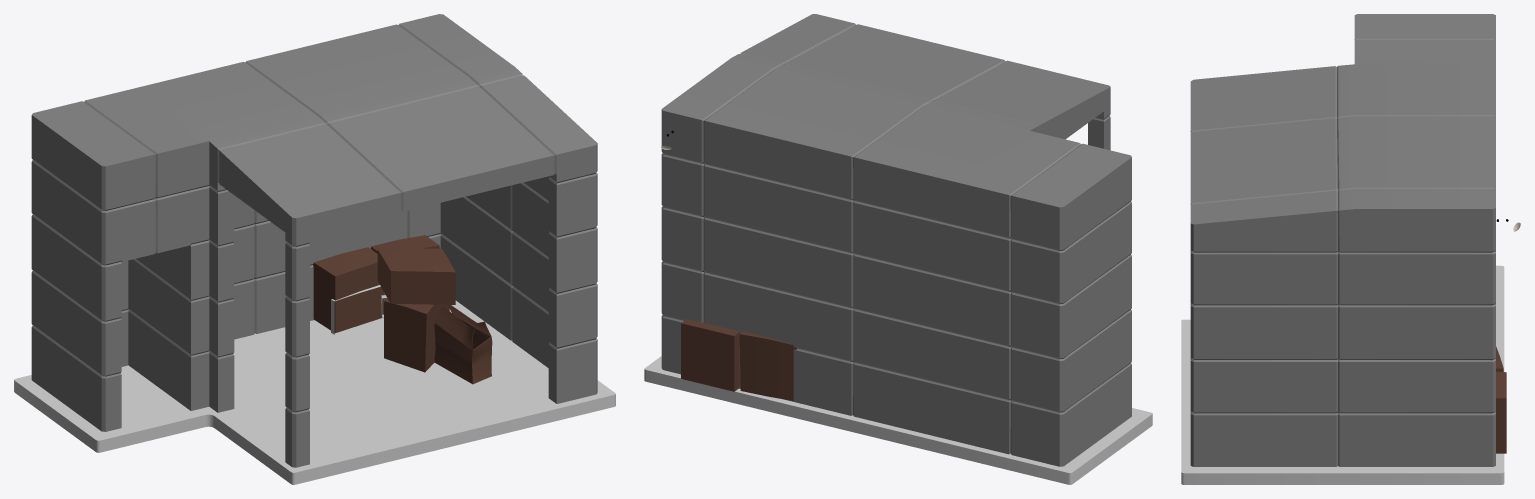
File: shop 3.fbx
The picture shows the model from 3 angles, left to right: view 1: azimuth 30°, elevation 25°; view 2: azimuth 150°, elevation 25°; view 3: azimuth 270°, elevation 25°; orthographic projection. The views are drawn at different scales.
Parts seen in each view (by area): view 1: Desirefx.me_CyberShop_Pharmacy_Concrete, Desirefx.me_CyberShop_Pharmacy_ConcreteTiles, Desirefx.me_CyberShop_Pharmacy_Cardboard; view 2: Desirefx.me_CyberShop_Pharmacy_Concrete, Desirefx.me_CyberShop_Pharmacy_ConcreteTiles, Desirefx.me_CyberShop_Pharmacy_Cardboard; view 3: Desirefx.me_CyberShop_Pharmacy_Concrete, Desirefx.me_CyberShop_Pharmacy_ConcreteTiles, Desirefx.me_CyberShop_Pharmacy_Cardboard.
Part boxes in pixels (bbox=[...]): Desirefx.me_CyberShop_Pharmacy_Concrete: bbox=[31, 14, 597, 467]; Desirefx.me_CyberShop_Pharmacy_ConcreteTiles: bbox=[14, 300, 615, 484]; Desirefx.me_CyberShop_Pharmacy_Cardboard: bbox=[313, 235, 492, 384]; Desirefx.me_CyberShop_Pharmacy_Concrete: bbox=[661, 14, 1131, 466]; Desirefx.me_CyberShop_Pharmacy_ConcreteTiles: bbox=[644, 356, 1152, 484]; Desirefx.me_CyberShop_Pharmacy_Cardboard: bbox=[681, 319, 796, 400]; Desirefx.me_CyberShop_Pharmacy_Concrete: bbox=[1190, 14, 1495, 466]; Desirefx.me_CyberShop_Pharmacy_ConcreteTiles: bbox=[1181, 265, 1504, 484]; Desirefx.me_CyberShop_Pharmacy_Cardboard: bbox=[1496, 346, 1506, 453].
Size of the model in its own units: 15.55 by 9.42 by 10.74.
